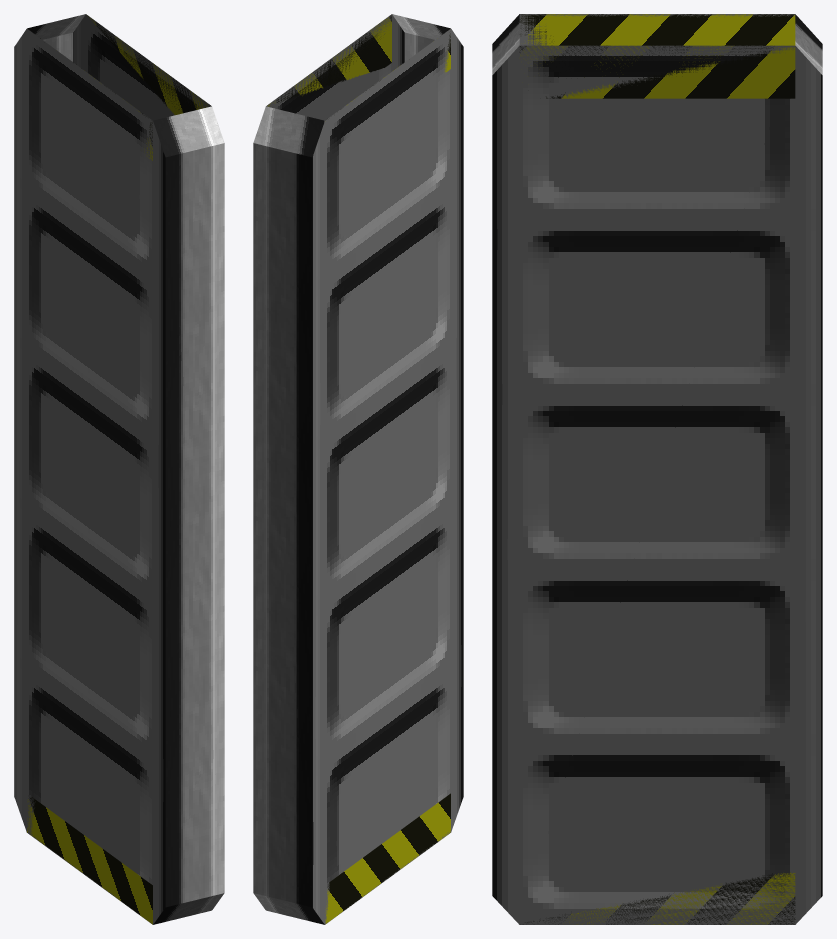
The model's file is primary_133.glb.
3 views of the same model, side by side, from view 1: azimuth 30°, elevation 25°; view 2: azimuth 150°, elevation 25°; view 3: azimuth 270°, elevation 25° (orthographic). The views are drawn at different scales.
Parts seen in each view (by area): view 1: Object; view 2: Object; view 3: Object.
Part boxes in pixels (x1,y1,x2,y2): Object: [14, 14, 224, 924]; Object: [253, 14, 463, 924]; Object: [492, 14, 822, 924].
Bounding box in the file's own units: 0.1769 × 2.3 × 0.7834.
Materials: 8 (8 with a texture image).
